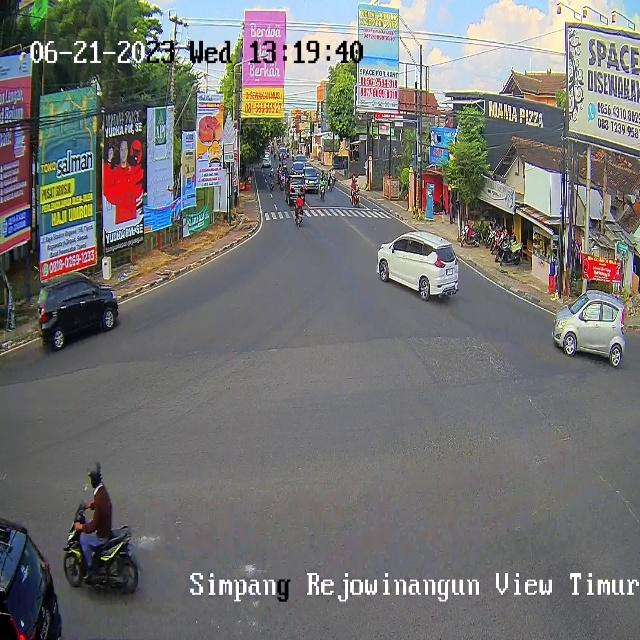bus: (64, 501, 139, 595), (296, 207, 304, 226), (352, 192, 361, 207), (320, 183, 326, 202), (269, 178, 276, 191), (329, 178, 334, 193), (280, 178, 285, 191)
motorcycle: (0, 516, 64, 640), (37, 272, 121, 353), (554, 289, 626, 367), (378, 231, 458, 300), (284, 175, 305, 205), (303, 167, 319, 190), (292, 162, 304, 175)
